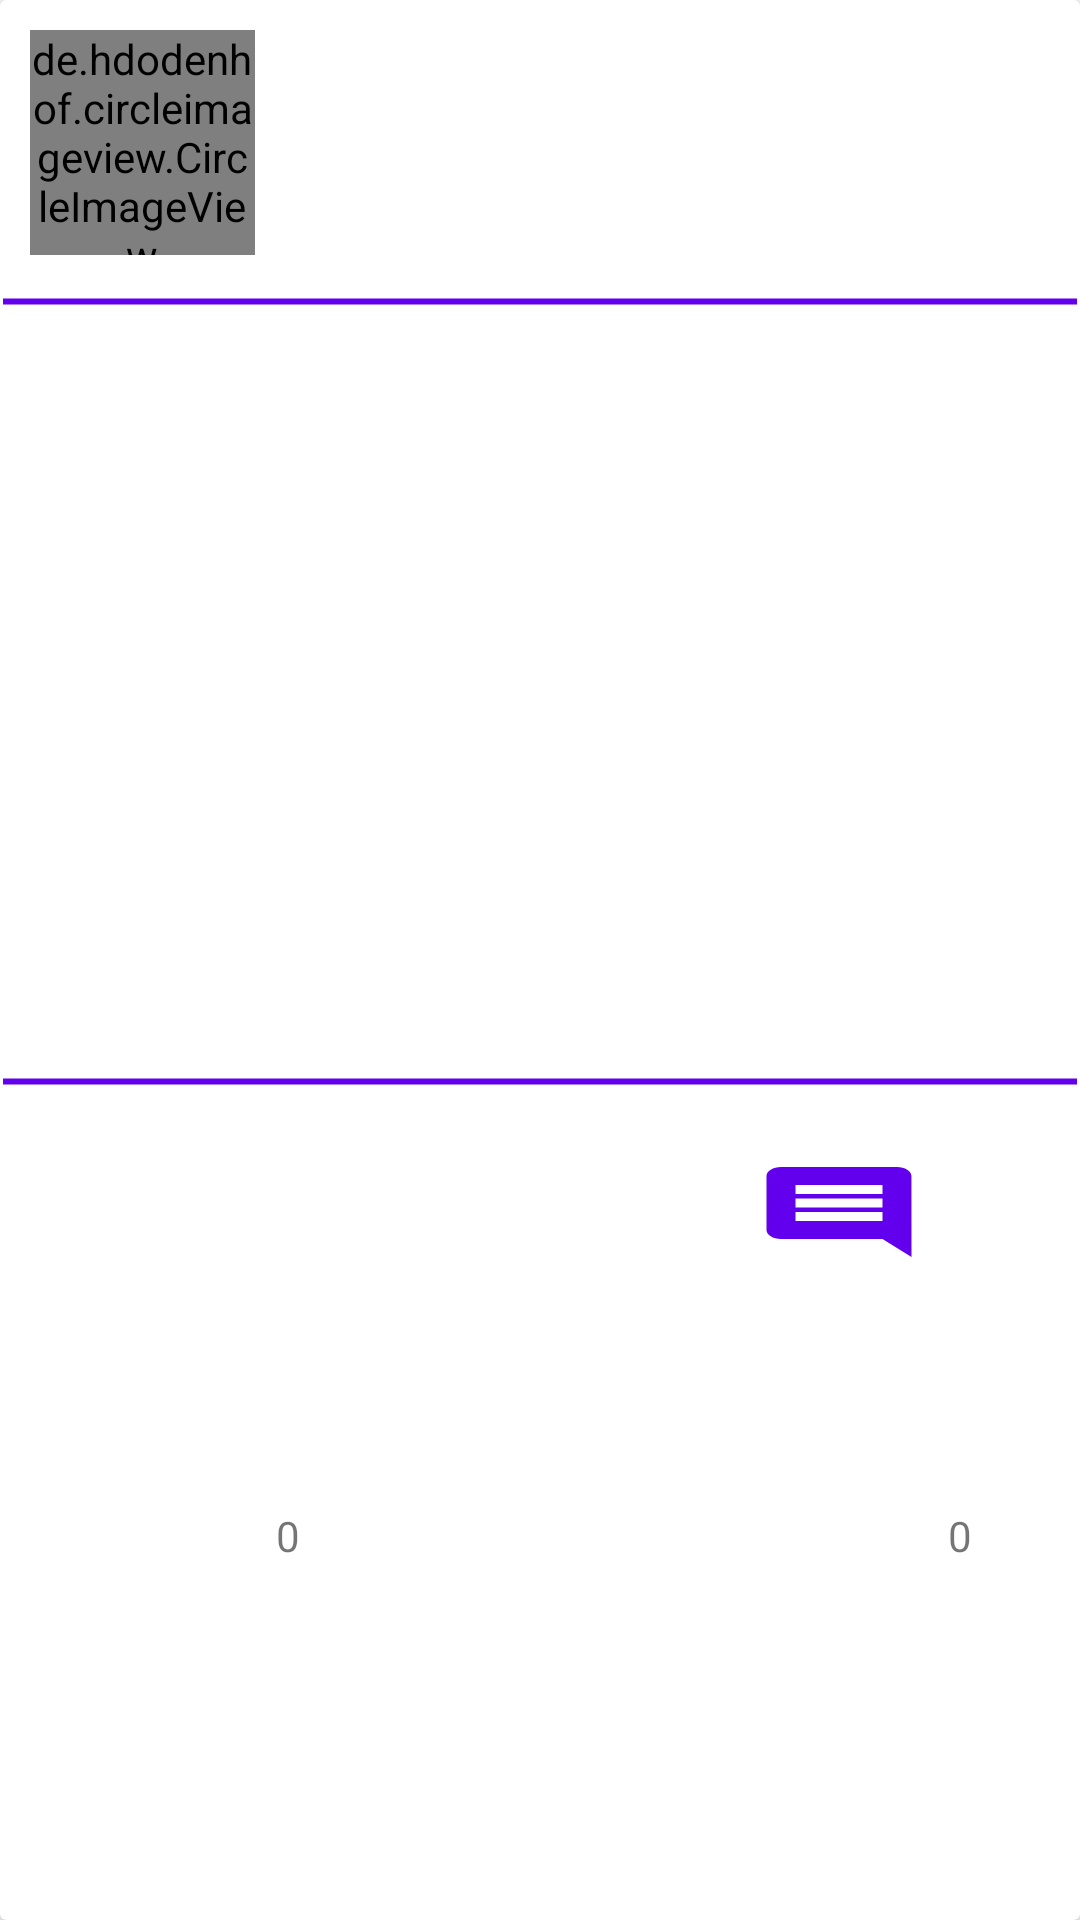

Where to tap for icons on this 1080×1920 app screen, as (x,y):
comment: (839,1212)
